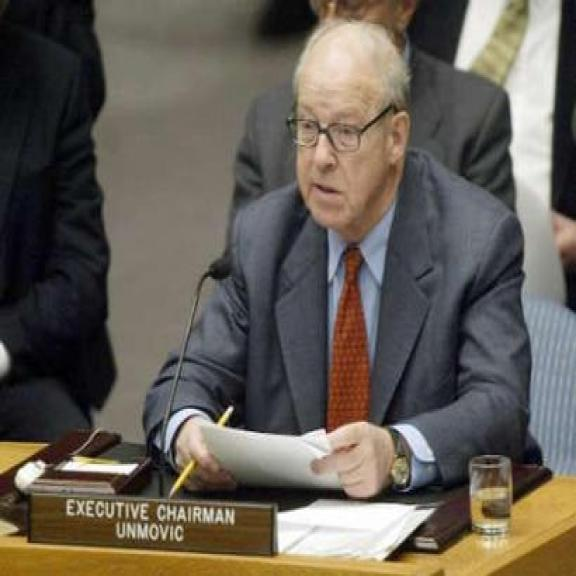face: (295, 42, 414, 227)
